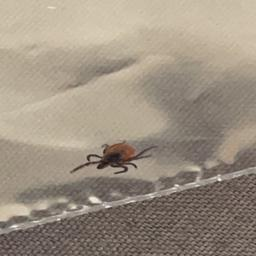Ixodes scapularis: (70, 143, 159, 176)
